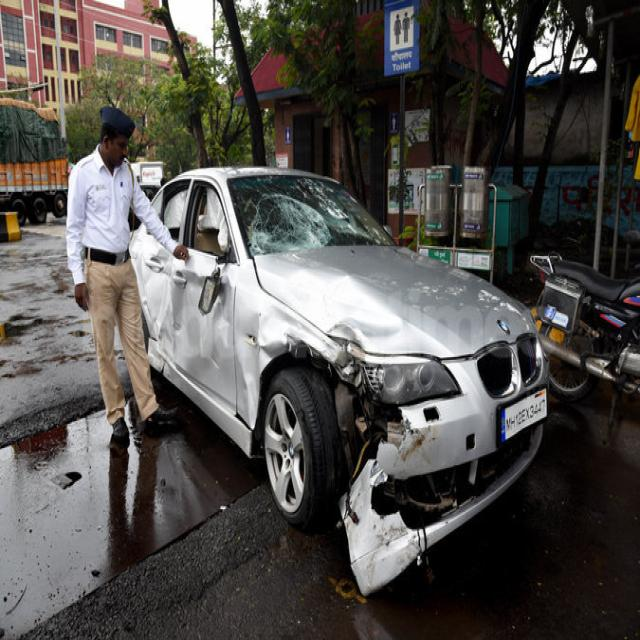accident: (130, 167, 549, 593)
motorcycle: (532, 257, 640, 401)
truck: (0, 98, 66, 224)
